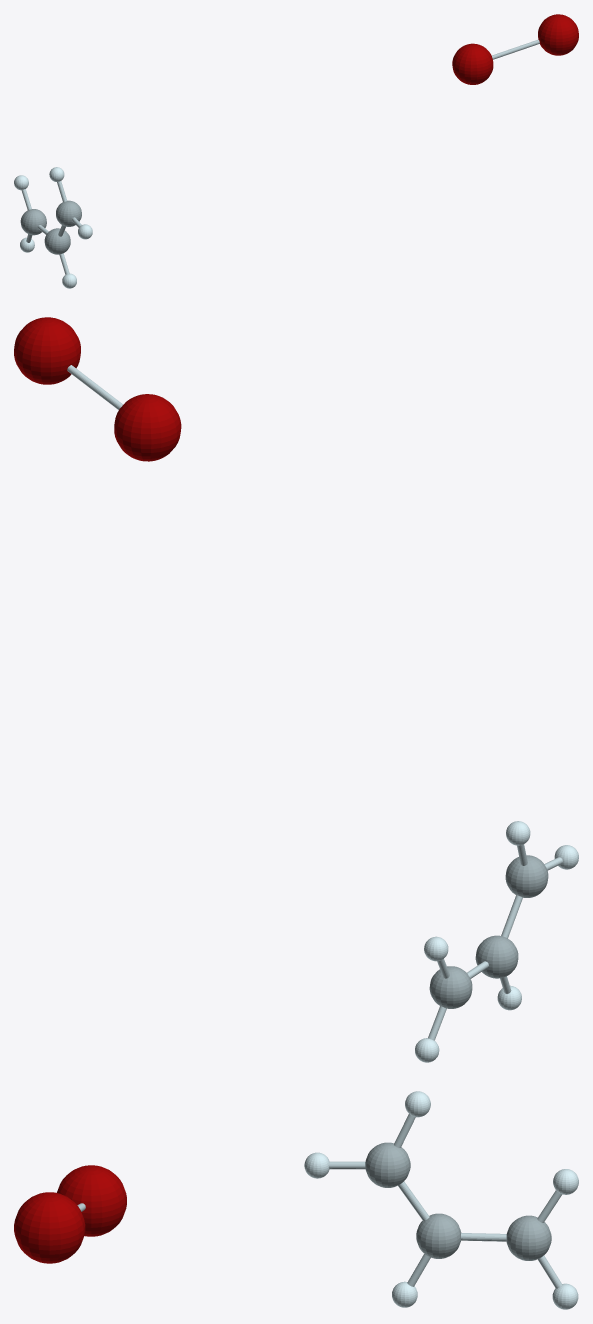
Rendered from irc_step_077.glb.
3 renders of one model, top to bottom at view 1: azimuth 30°, elevation 25°; view 2: azimuth 150°, elevation 25°; view 3: azimuth 270°, elevation 25°, orthographic. The views are drawn at different scales.
Visible parts, largest first — view 1: Renderer Node; view 2: Renderer Node; view 3: Renderer Node.
Boxes of the visible parts, x1,y1,x2,y2 form: Renderer Node: (14, 14, 578, 288); Renderer Node: (14, 317, 578, 1062); Renderer Node: (14, 1091, 578, 1309).
Bounding box in the file's own units: 12.9 × 7.4 × 8.68.
